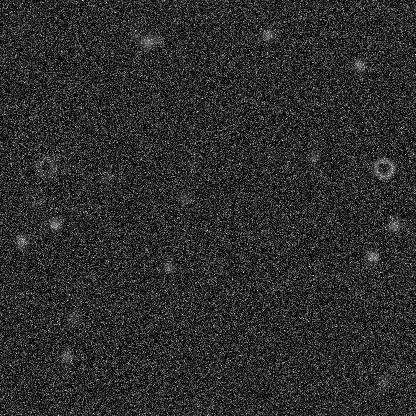Ring: (371, 156, 395, 180), (23, 185, 47, 209), (48, 153, 72, 177), (33, 154, 57, 178)
Spot: (98, 168, 114, 184), (125, 25, 141, 41), (376, 372, 392, 388), (259, 26, 275, 42), (46, 215, 62, 231), (149, 30, 165, 46), (160, 259, 176, 275), (13, 232, 29, 248), (350, 57, 366, 73), (385, 217, 401, 233), (176, 189, 192, 205), (139, 34, 155, 50), (305, 148, 321, 164), (65, 309, 81, 325), (364, 248, 380, 264), (59, 347, 75, 363)
